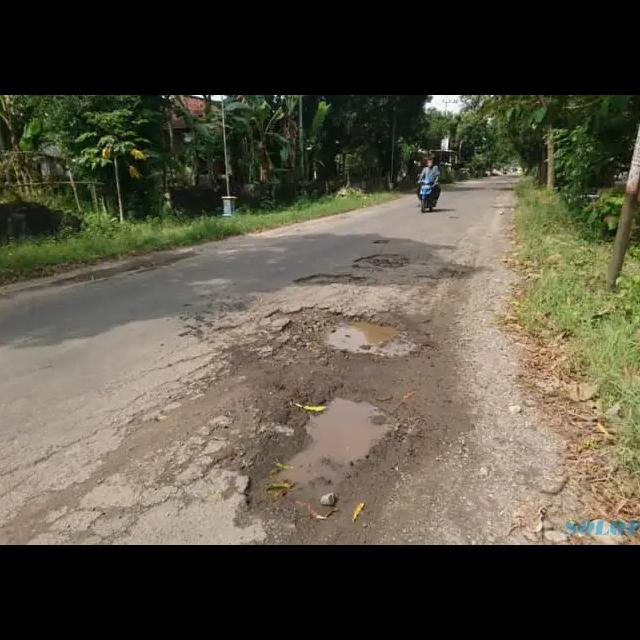lubang_kecil: (231, 377, 419, 507), (292, 292, 422, 371), (290, 261, 370, 299), (342, 246, 415, 279)
